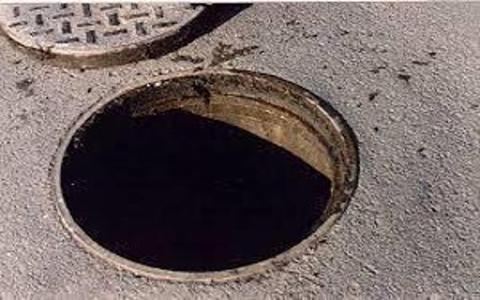open manhole: (8, 43, 380, 294)
